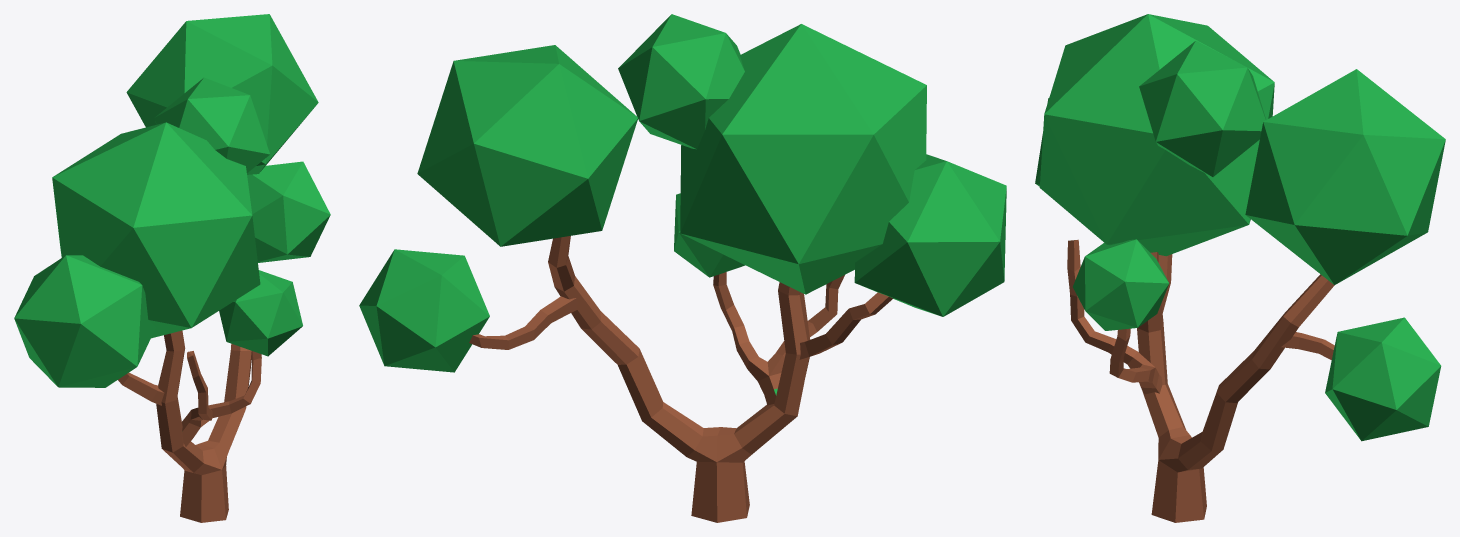
The model's file is poly_tree_color.glb.
3 views of the same model, side by side, from view 1: azimuth 30°, elevation 25°; view 2: azimuth 150°, elevation 25°; view 3: azimuth 270°, elevation 25° (orthographic). The views are drawn at different scales.
Parts seen in each view (by area): view 1: Tree_lp_11; view 2: Tree_lp_11; view 3: Tree_lp_11.
Boxes of the visible parts, bbox=[...] form: Tree_lp_11: bbox=[14, 14, 330, 522]; Tree_lp_11: bbox=[359, 14, 1006, 522]; Tree_lp_11: bbox=[1035, 14, 1445, 522].
Size of the model in its own units: 27.98 by 26.54 by 20.8.
Materials: 1 (1 with a texture image).
